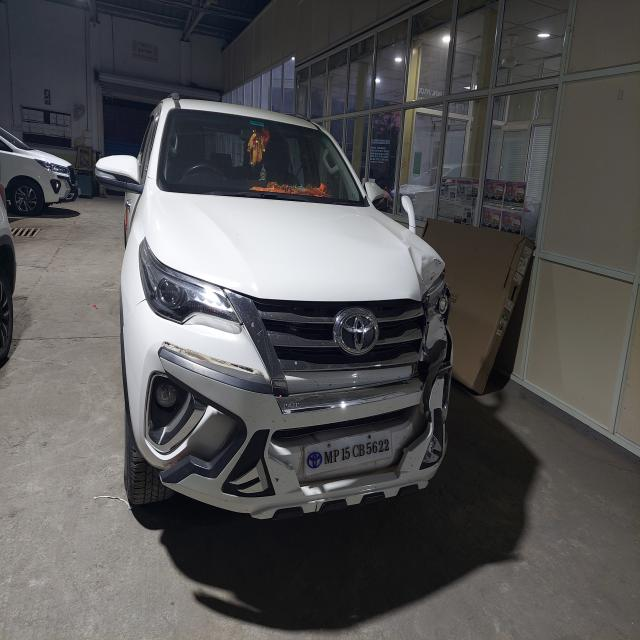damage: (161, 340, 265, 383), (418, 364, 451, 479), (422, 273, 452, 360), (404, 241, 442, 294), (273, 476, 281, 485)
